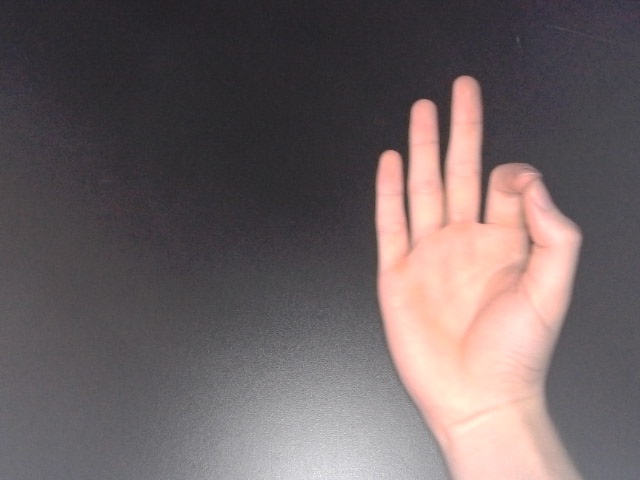f: (367, 71, 589, 439)
